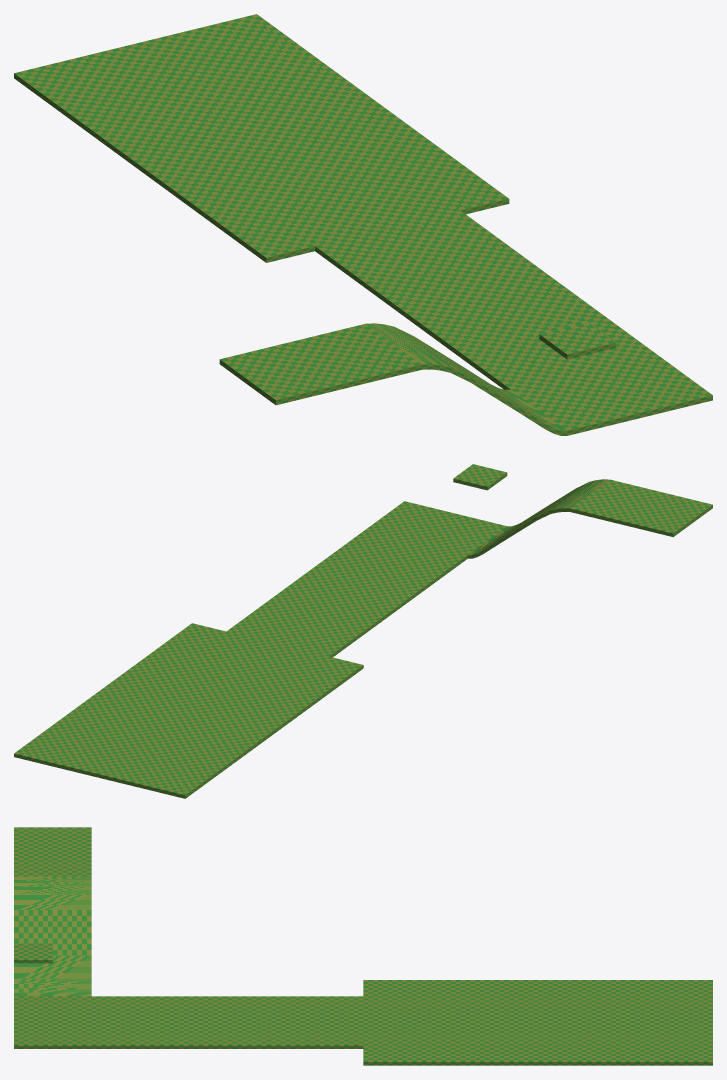
File: levelTest.glb
The picture shows the model from 3 angles, top to bottom: view 1: azimuth 30°, elevation 25°; view 2: azimuth 150°, elevation 25°; view 3: azimuth 270°, elevation 25°; orthographic projection. The views are drawn at different scales.
Visible parts, largest first — view 1: Plat.073; view 2: Plat.073; view 3: Plat.073.
Part boxes in pixels (x1,y1,x2,y2): Plat.073: [14, 14, 712, 435]; Plat.073: [14, 464, 712, 798]; Plat.073: [14, 827, 712, 1065].
Bounding box in the file's own units: 100 × 21 × 180.
Materials: 1 (1 with a texture image).
